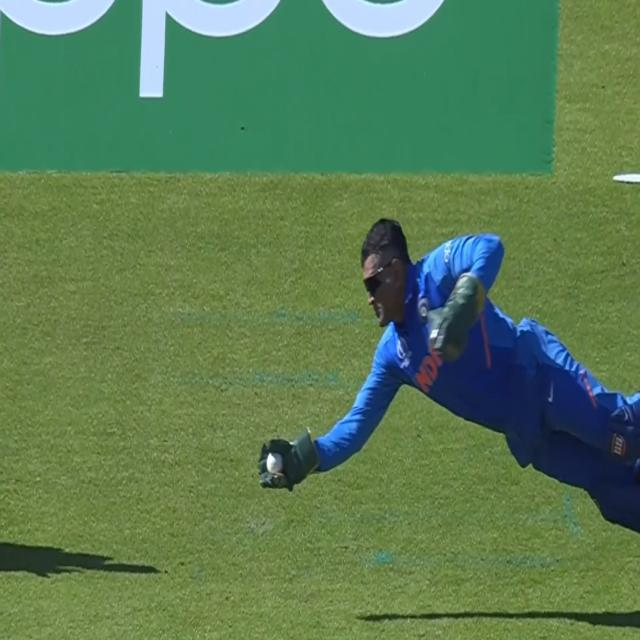ball: (263, 447, 289, 482)
